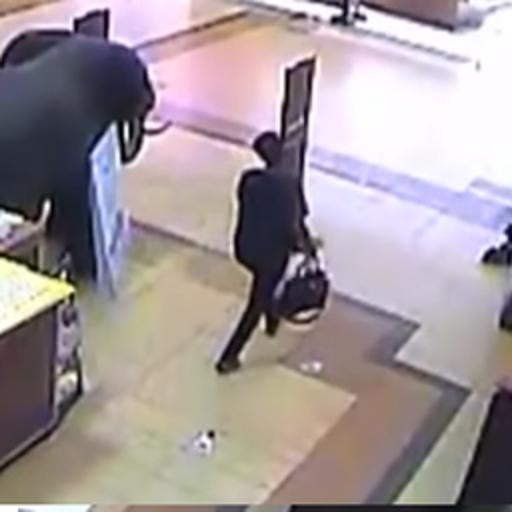Humans: (211, 108, 342, 387)
